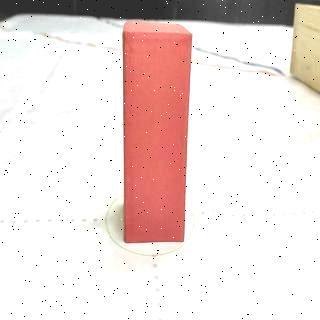redbox: (122, 17, 193, 242)
